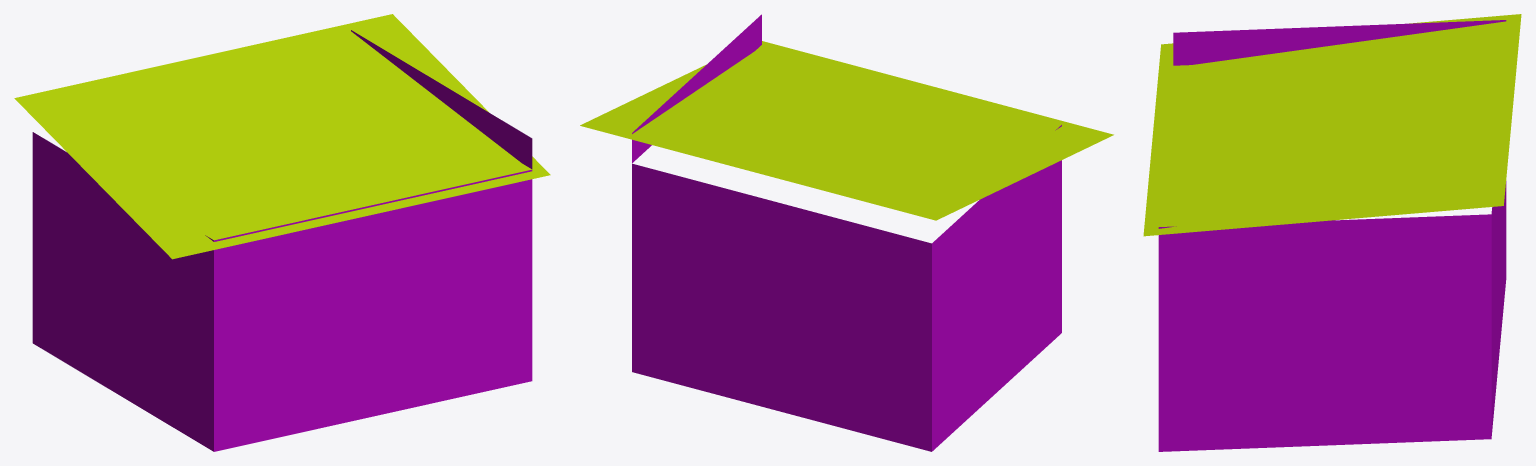
Rendered from niv_136.glb.
3 renders of one model, left to right at view 1: azimuth 30°, elevation 25°; view 2: azimuth 150°, elevation 25°; view 3: azimuth 270°, elevation 25°, orthographic. The views are drawn at different scales.
Visible parts, largest first — view 1: niv_136; view 2: niv_136; view 3: niv_136.
Boxes of the visible parts, x1,y1,x2,y2 form: niv_136: (14, 14, 550, 451); niv_136: (580, 14, 1113, 451); niv_136: (1143, 14, 1521, 451).
Size of the model in its own units: 12.85 by 7.81 by 10.37.
